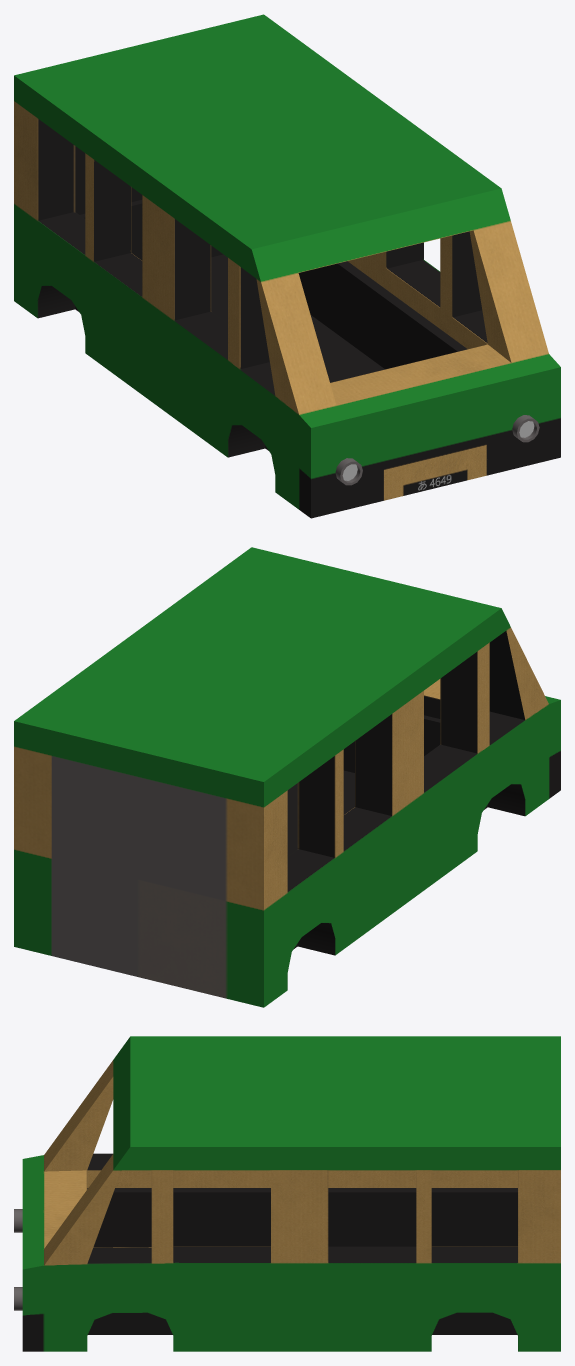
File: cardboard_car2_body.fbx
3 renders of one model, top to bottom at view 1: azimuth 30°, elevation 25°; view 2: azimuth 150°, elevation 25°; view 3: azimuth 270°, elevation 25°, orthographic. The views are drawn at different scales.
Visible parts, largest first — view 1: cardboard_car2_body; view 2: cardboard_car2_body; view 3: cardboard_car2_body.
Part boxes in pixels (left/top/right/bottom): cardboard_car2_body: left=14, top=14, right=560, bottom=518; cardboard_car2_body: left=14, top=547, right=560, bottom=1007; cardboard_car2_body: left=14, top=1036, right=560, bottom=1351.
Bounding box in the file's own units: 160 × 138 × 335.
